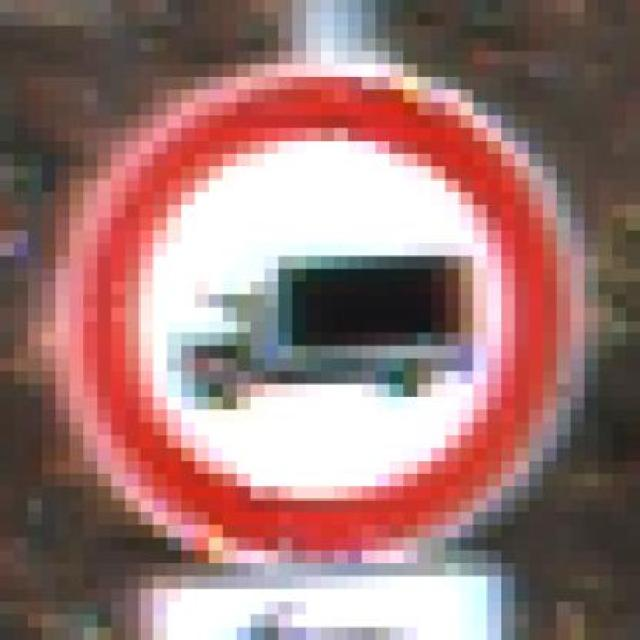Truck traffic is prohibited: (41, 64, 598, 588)
